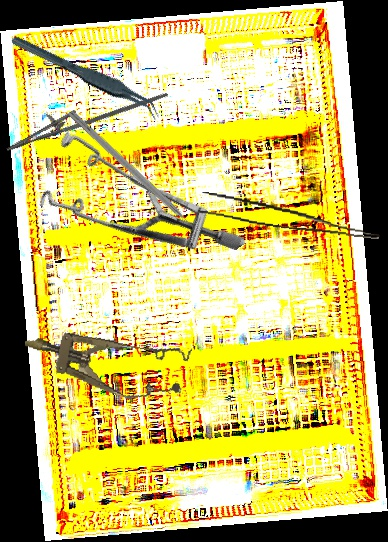Chopper: (61, 109, 203, 244)
Needle Holder: (0, 62, 169, 171)
Speculum: (14, 84, 247, 328), (17, 311, 193, 411)
Tissue Forceps: (9, 18, 165, 134), (197, 191, 383, 240)
